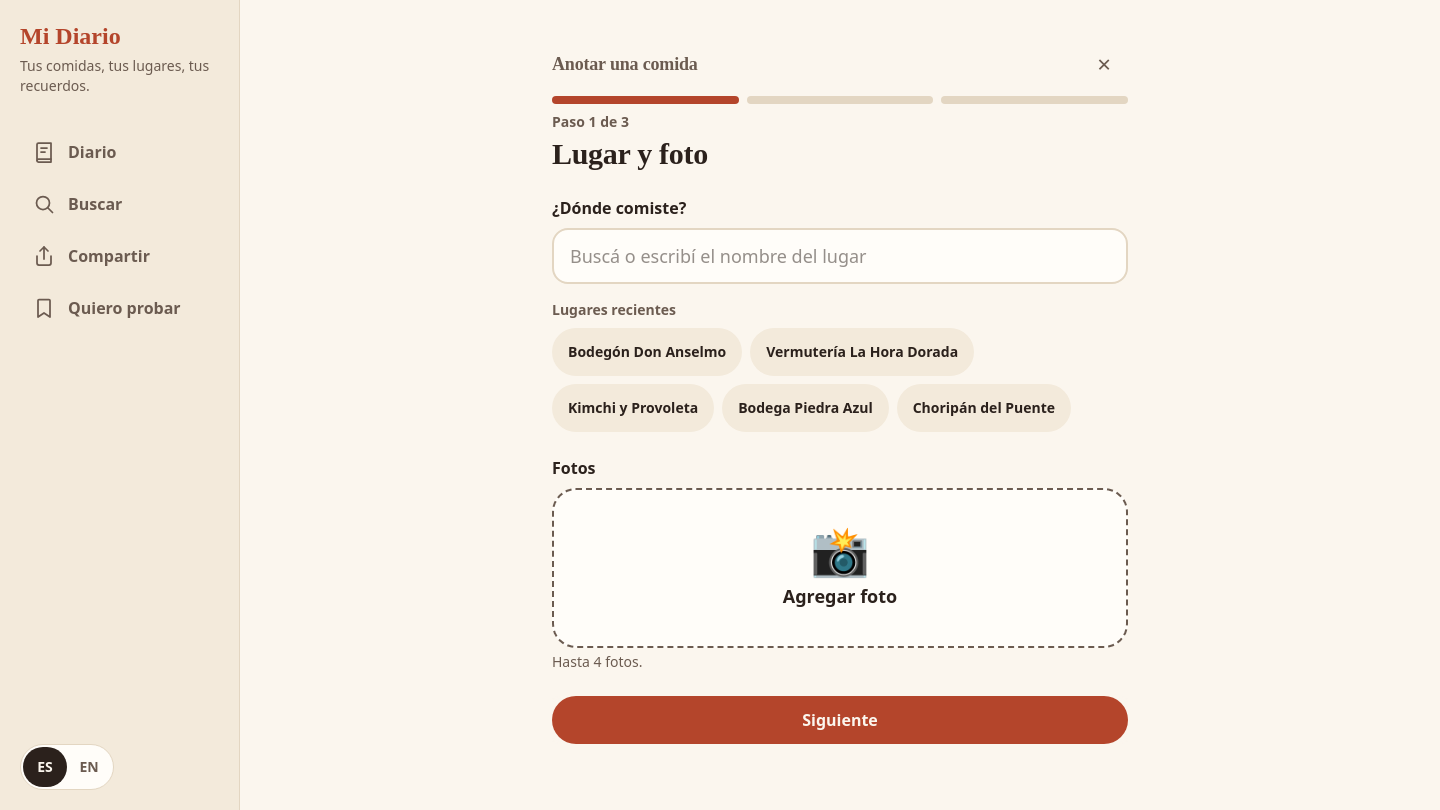
quick log › will not move on without a place, and says why
The image size is (1440, 810).
Step 1. Click the button "Siguiente" → [840, 720], box [552,696,1128,744]
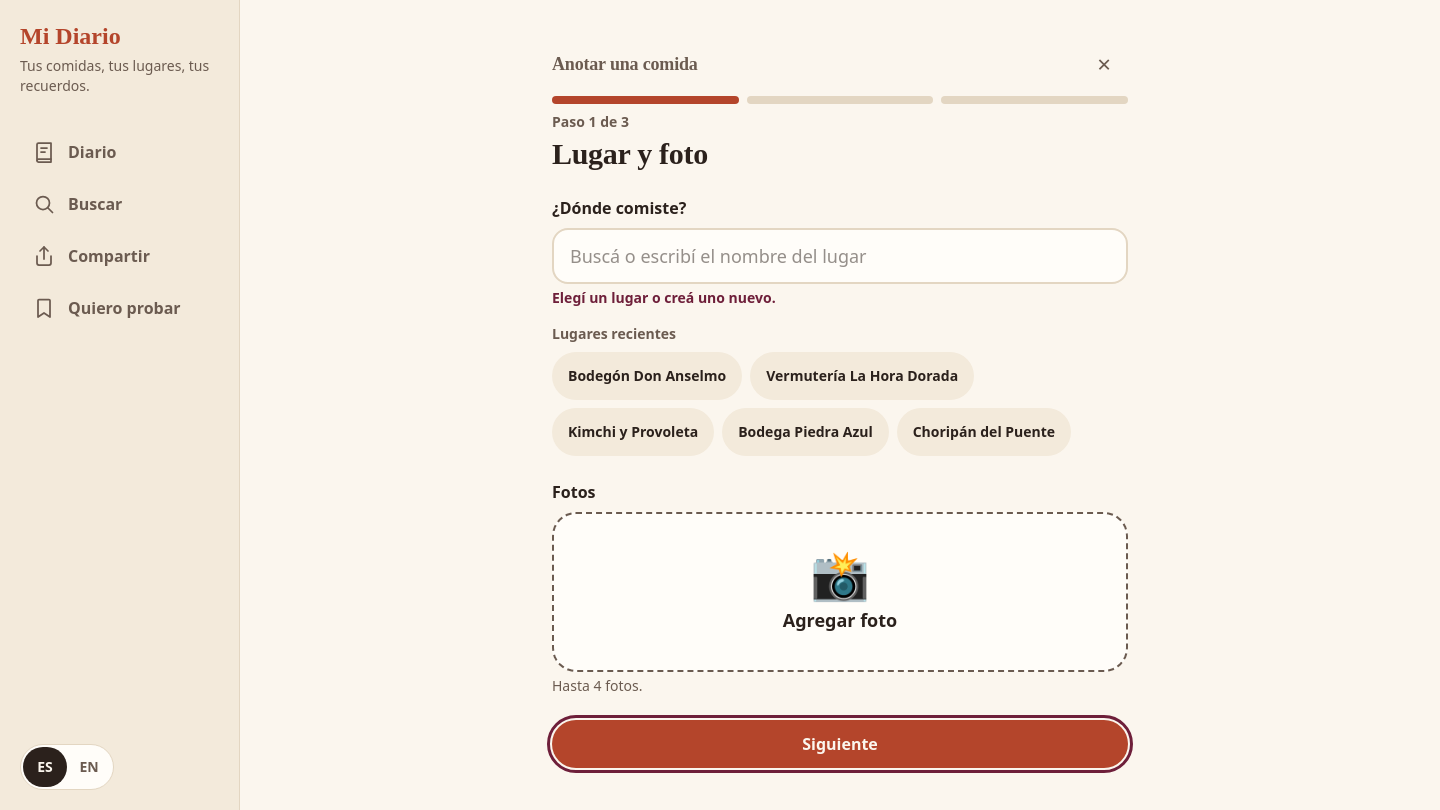
Expected: the text "Elegí un lugar o creá uno nuevo." is shown, [552,288,776,307]
